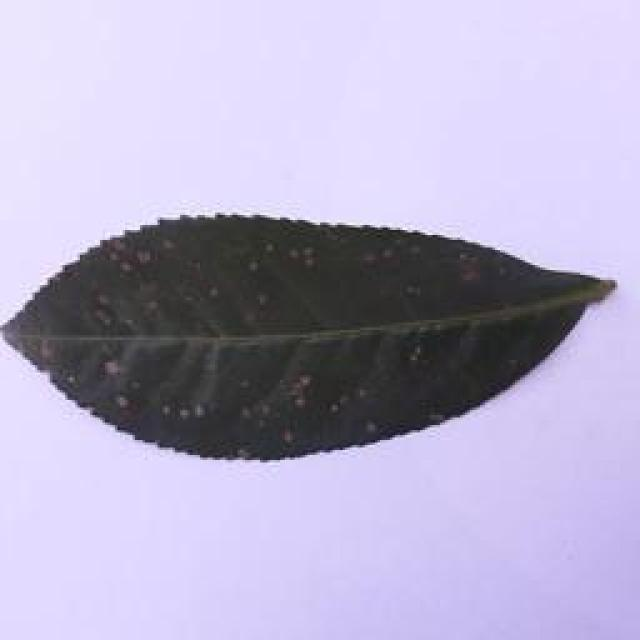Algal Leaf Spot: (8, 205, 630, 474)
